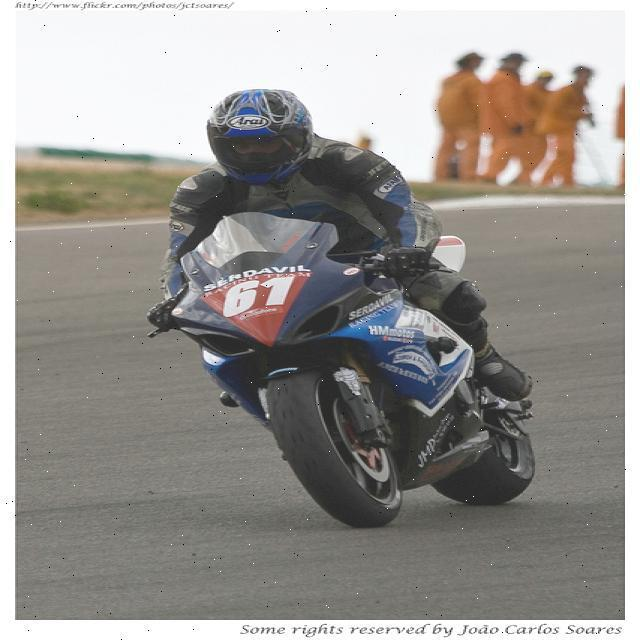motorcycle: (143, 211, 550, 538)
